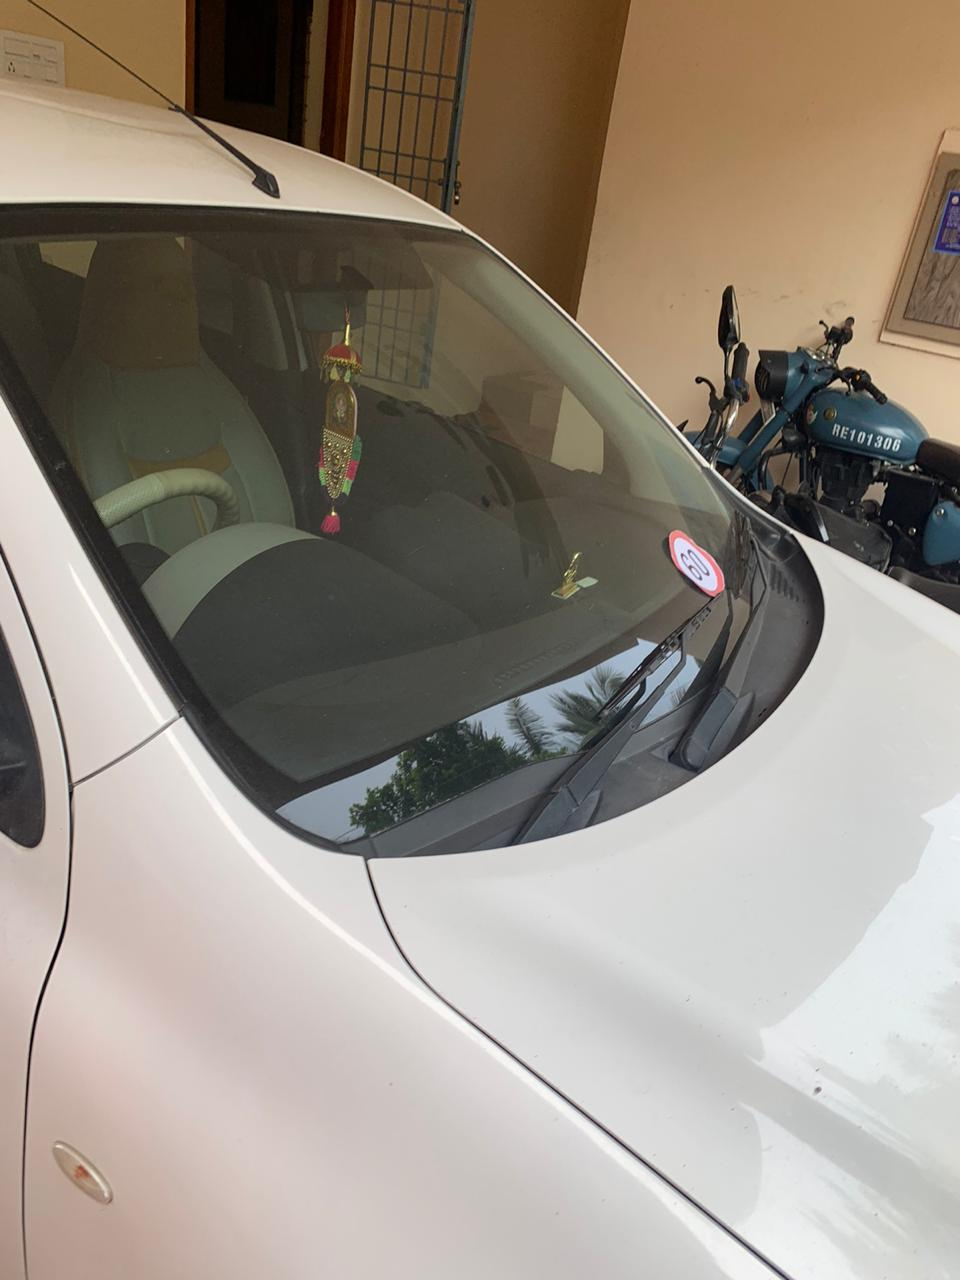SPEED LIMIT (60 KM/H): (642, 514, 748, 606)
